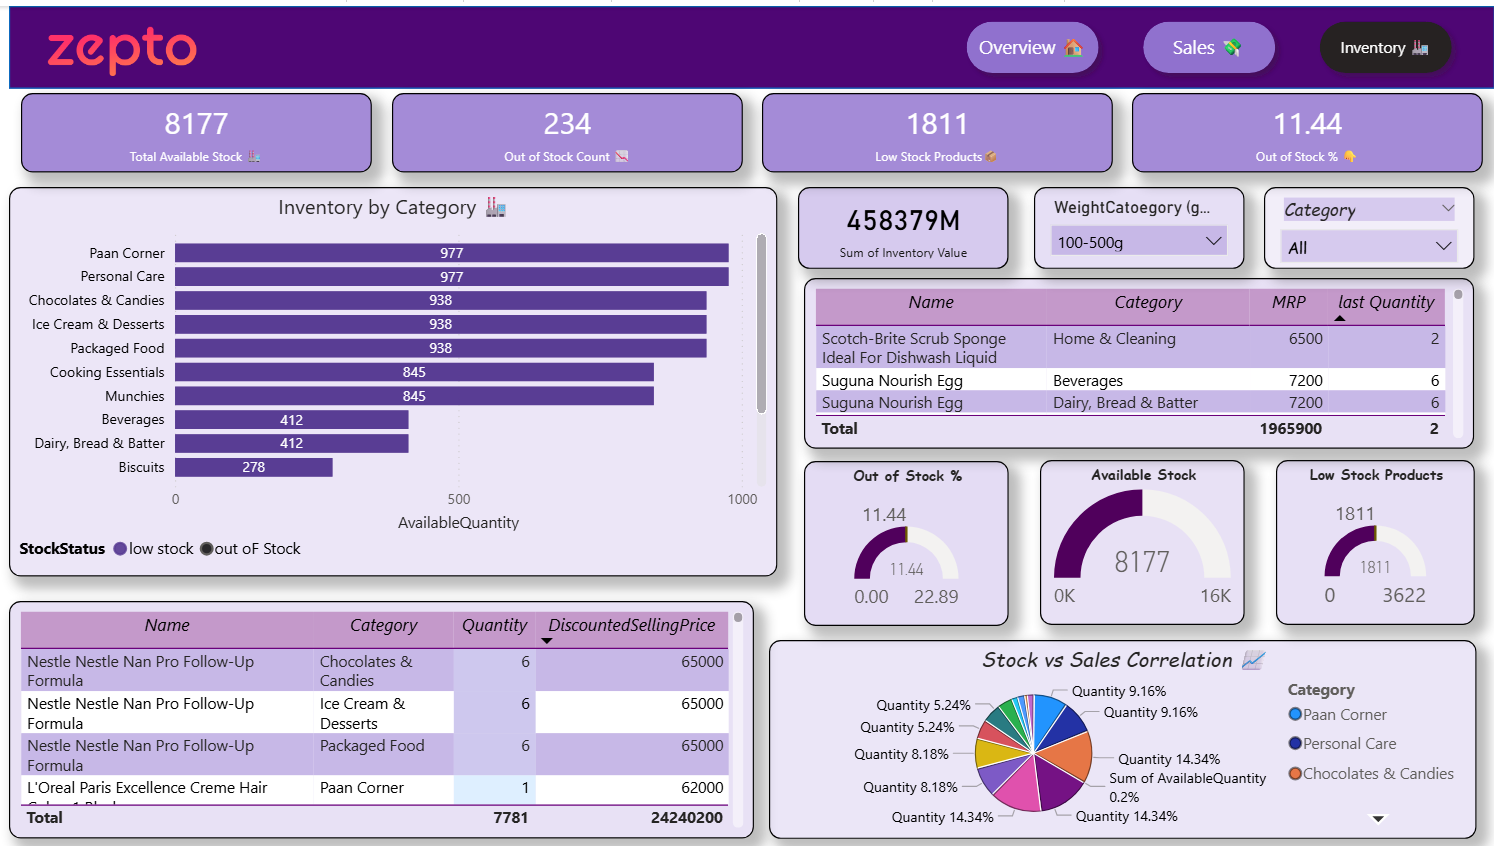

This screenshot's page, from the dashboard's own definition file:
{"tool":"powerbi","page":{"name":"Inventory 🏭","canvas":[1280,720],"ordinal":2},"visuals":[{"type":"shape","box":[9.3,0,1270.7,80.1],"z":0},{"type":"textbox","box":[315.7,0,673.1,79.4],"z":1000},{"type":"image","box":[19.3,13.2,173.1,51.9],"z":2000},{"type":"gauge","fields":{"Y":["_Measures.Out of Stock %"]},"box":[10.6,144.9,315.7,109.4],"z":4000},{"type":"gauge","fields":{"Y":["_Measures.Low Stock Products"]},"box":[326.2,144.9,318.6,109.4],"z":5000},{"type":"gauge","fields":{"Y":["_Measures.Total Available Stock"]},"box":[642.9,144.9,267.7,139.1],"z":6000},{"type":"barChart","title":"AvailableQuantity by Category and StockStatus","fields":{"Category":["zepto_v2.Category"],"Y":["Sum(zepto_v2.AvailableQuantity)"],"Series":["zepto_v2.StockStatus"]},"box":[0.9,254.3,644.2,254.3],"z":7000},{"type":"tableEx","fields":{"Values":["zepto_v2.Name","zepto_v2.Category","Sum(zepto_v2.AvailableQuantity)","Sum(zepto_v2.DiscountedSellingPrice)"]},"box":[0,508.5,646.7,147.8],"z":8000},{"type":"tableEx","fields":{"Values":["zepto_v2.Name","zepto_v2.Category","Sum(zepto_v2.AvailableQuantity)","Sum(zepto_v2.DiscountedSellingPrice)"]},"box":[646.7,284,633.3,203.4],"z":9000},{"type":"pieChart","title":"AvailableQuantity and Sum of Quantity by Category","fields":{"Y":["Sum(zepto_v2.AvailableQuantity)","Sum(zepto_v2.Quantity)"],"Category":["zepto_v2.Category"]},"box":[642.9,487.4,637.1,169.8],"z":10000},{"type":"card","fields":{"Values":["Sum(zepto_v2.Inventory Value)"]},"box":[910.6,210.1,188.1,73.9],"z":11000},{"type":"slicer","fields":{"Values":["zepto_v2.WeightCatoegory (groups)"]},"box":[1098.7,144.9,181.3,139.1],"z":12000},{"type":"slicer","fields":{"Values":["zepto_v2.Category"]},"box":[910.6,144.9,188.1,61.4],"z":13000},{"type":"pageNavigator","box":[228.4,657.3,813.7,62.4],"z":14000},{"type":"card","fields":{"Values":["_Measures.Total Available Stock"]},"box":[9.6,79.6,320.5,65.2],"z":15000},{"type":"card","fields":{"Values":["_Measures.Out of Stock Count"]},"box":[326.2,79.6,320.5,65.2],"z":16000},{"type":"card","fields":{"Values":["_Measures.Low Stock Products"]},"box":[642.9,79.6,320.5,65.2],"z":17000},{"type":"card","fields":{"Values":["_Measures.Out of Stock %"]},"box":[959.5,79.6,320.5,65.2],"z":18000}]}

Visuals, with their boxes in screenshot pixels (x1, y1, x2, y2), scaled from the page's 1280x720 canvas onto the 1494x846 screenshot:
shape: {"x1": 11, "y1": 0, "x2": 1493, "y2": 94}
textbox: {"x1": 368, "y1": 0, "x2": 1154, "y2": 93}
image: {"x1": 23, "y1": 16, "x2": 225, "y2": 76}
gauge - _Measures.Out of Stock %: {"x1": 12, "y1": 170, "x2": 381, "y2": 299}
gauge - _Measures.Low Stock Products: {"x1": 381, "y1": 170, "x2": 753, "y2": 299}
gauge - _Measures.Total Available Stock: {"x1": 750, "y1": 170, "x2": 1063, "y2": 334}
"AvailableQuantity by Category and StockStatus" barChart: {"x1": 1, "y1": 299, "x2": 753, "y2": 598}
tableEx - zepto_v2.Name x zepto_v2.Category: {"x1": 0, "y1": 597, "x2": 755, "y2": 771}
tableEx - zepto_v2.Name x zepto_v2.Category: {"x1": 755, "y1": 334, "x2": 1493, "y2": 573}
"AvailableQuantity and Sum of Quantity by Category" pieChart: {"x1": 750, "y1": 573, "x2": 1493, "y2": 772}
card - Sum(zepto_v2.Inventory Value): {"x1": 1063, "y1": 247, "x2": 1282, "y2": 334}
slicer - zepto_v2.WeightCatoegory (groups): {"x1": 1282, "y1": 170, "x2": 1493, "y2": 334}
slicer - zepto_v2.Category: {"x1": 1063, "y1": 170, "x2": 1282, "y2": 242}
pageNavigator: {"x1": 267, "y1": 772, "x2": 1216, "y2": 845}
card - _Measures.Total Available Stock: {"x1": 11, "y1": 94, "x2": 385, "y2": 170}
card - _Measures.Out of Stock Count: {"x1": 381, "y1": 94, "x2": 755, "y2": 170}
card - _Measures.Low Stock Products: {"x1": 750, "y1": 94, "x2": 1124, "y2": 170}
card - _Measures.Out of Stock %: {"x1": 1120, "y1": 94, "x2": 1493, "y2": 170}
